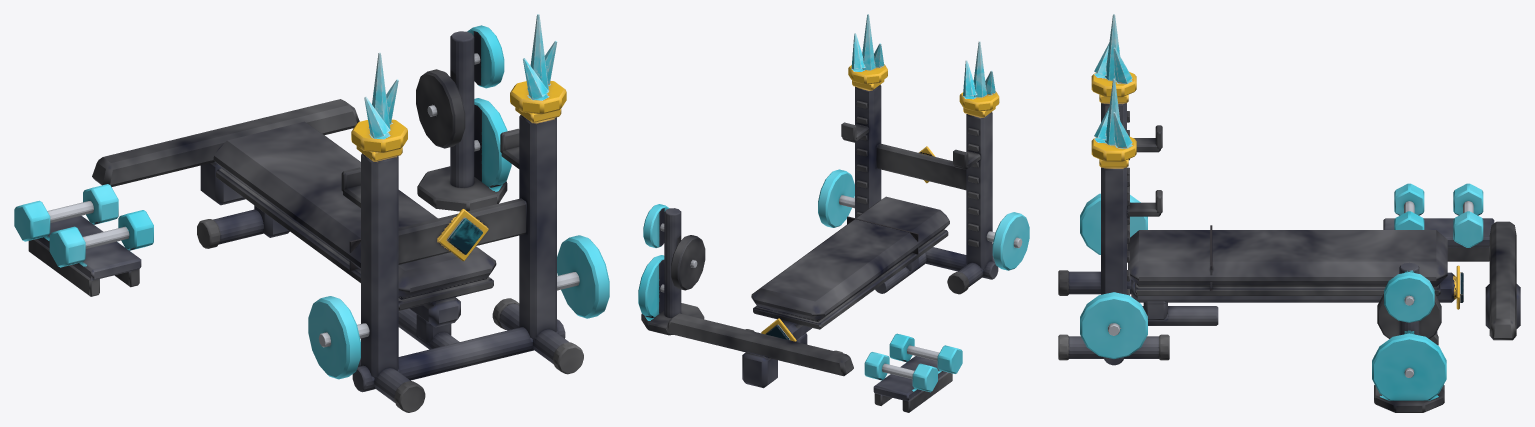
File: Bench_Cristal_Rig.fbx
3 views of the same model, side by side, from view 1: azimuth 30°, elevation 25°; view 2: azimuth 150°, elevation 25°; view 3: azimuth 270°, elevation 25° (orthographic). The views are drawn at different scales.
Visible parts, largest first — view 1: Rack, Weights, Bench, Decor; view 2: Rack, Weights, Bench, Decor; view 3: Bench, Weights, Rack, Decor.
Part boxes in pixels (left/top/right/bottom): Rack: left=308, top=107, right=609, bottom=412; Weights: left=14, top=25, right=511, bottom=296; Bench: left=197, top=121, right=496, bottom=327; Decor: left=351, top=14, right=566, bottom=152; Rack: left=818, top=80, right=1029, bottom=294; Weights: left=638, top=204, right=962, bottom=412; Bench: left=745, top=196, right=949, bottom=353; Decor: left=848, top=14, right=999, bottom=111; Bench: left=1128, top=225, right=1463, bottom=345; Weights: left=1372, top=183, right=1520, bottom=412; Rack: left=1058, top=94, right=1218, bottom=365; Decor: left=1091, top=14, right=1136, bottom=161.
Bounding box in the file's own units: 8.26 × 6 × 8.97.
Materials: 1 (1 with a texture image).
